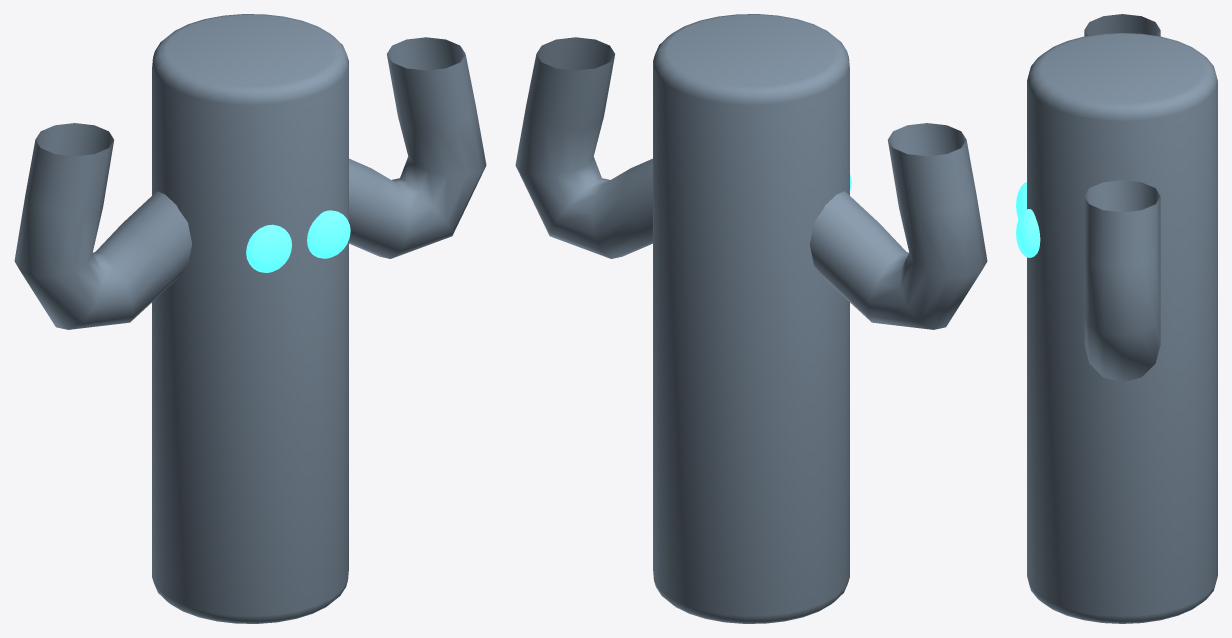
The model's file is plant_v8.glb.
3 renders of one model, left to right at view 1: azimuth 30°, elevation 25°; view 2: azimuth 150°, elevation 25°; view 3: azimuth 270°, elevation 25°, orthographic. The views are drawn at different scales.
Visible parts, largest first — view 1: CACTUS_TRUNK_PRIMARY, CACTUS_ARM_PRIMARY, CACTUS_ARM_PRIMARY.001, EYE_EMISSIVE, EYE_EMISSIVE.001; view 2: CACTUS_TRUNK_PRIMARY, CACTUS_ARM_PRIMARY, CACTUS_ARM_PRIMARY.001; view 3: CACTUS_TRUNK_PRIMARY, CACTUS_ARM_PRIMARY.001, CACTUS_ARM_PRIMARY, EYE_EMISSIVE.001, EYE_EMISSIVE.
Part boxes in pixels (left/top/right/bottom): CACTUS_TRUNK_PRIMARY: left=152, top=14, right=348, bottom=623; CACTUS_ARM_PRIMARY: left=14, top=123, right=192, bottom=329; CACTUS_ARM_PRIMARY.001: left=349, top=37, right=486, bottom=258; EYE_EMISSIVE: left=246, top=224, right=291, bottom=272; EYE_EMISSIVE.001: left=307, top=210, right=350, bottom=258; CACTUS_TRUNK_PRIMARY: left=653, top=14, right=849, bottom=623; CACTUS_ARM_PRIMARY: left=809, top=123, right=987, bottom=329; CACTUS_ARM_PRIMARY.001: left=515, top=37, right=652, bottom=258; CACTUS_TRUNK_PRIMARY: left=1027, top=33, right=1217, bottom=623; CACTUS_ARM_PRIMARY.001: left=1084, top=180, right=1160, bottom=382; CACTUS_ARM_PRIMARY: left=1084, top=14, right=1160, bottom=36; EYE_EMISSIVE.001: left=1016, top=209, right=1040, bottom=257; EYE_EMISSIVE: left=1016, top=182, right=1026, bottom=218.
Size of the model in its own units: 1.89 by 2.1 by 0.74.
